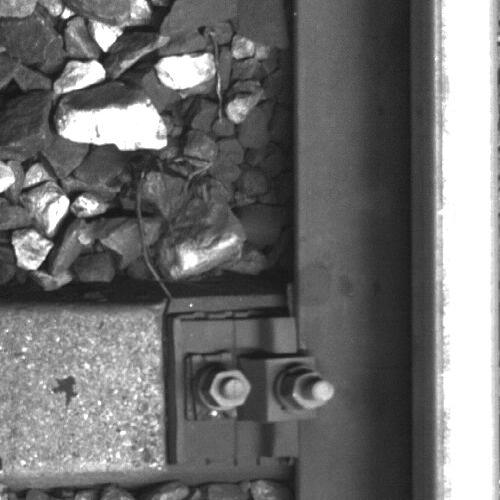kb: (179, 320, 335, 460)
nut: (280, 370, 335, 414), (200, 369, 251, 410)
rail: (433, 1, 498, 500)
tie_concr: (1, 305, 296, 461)
